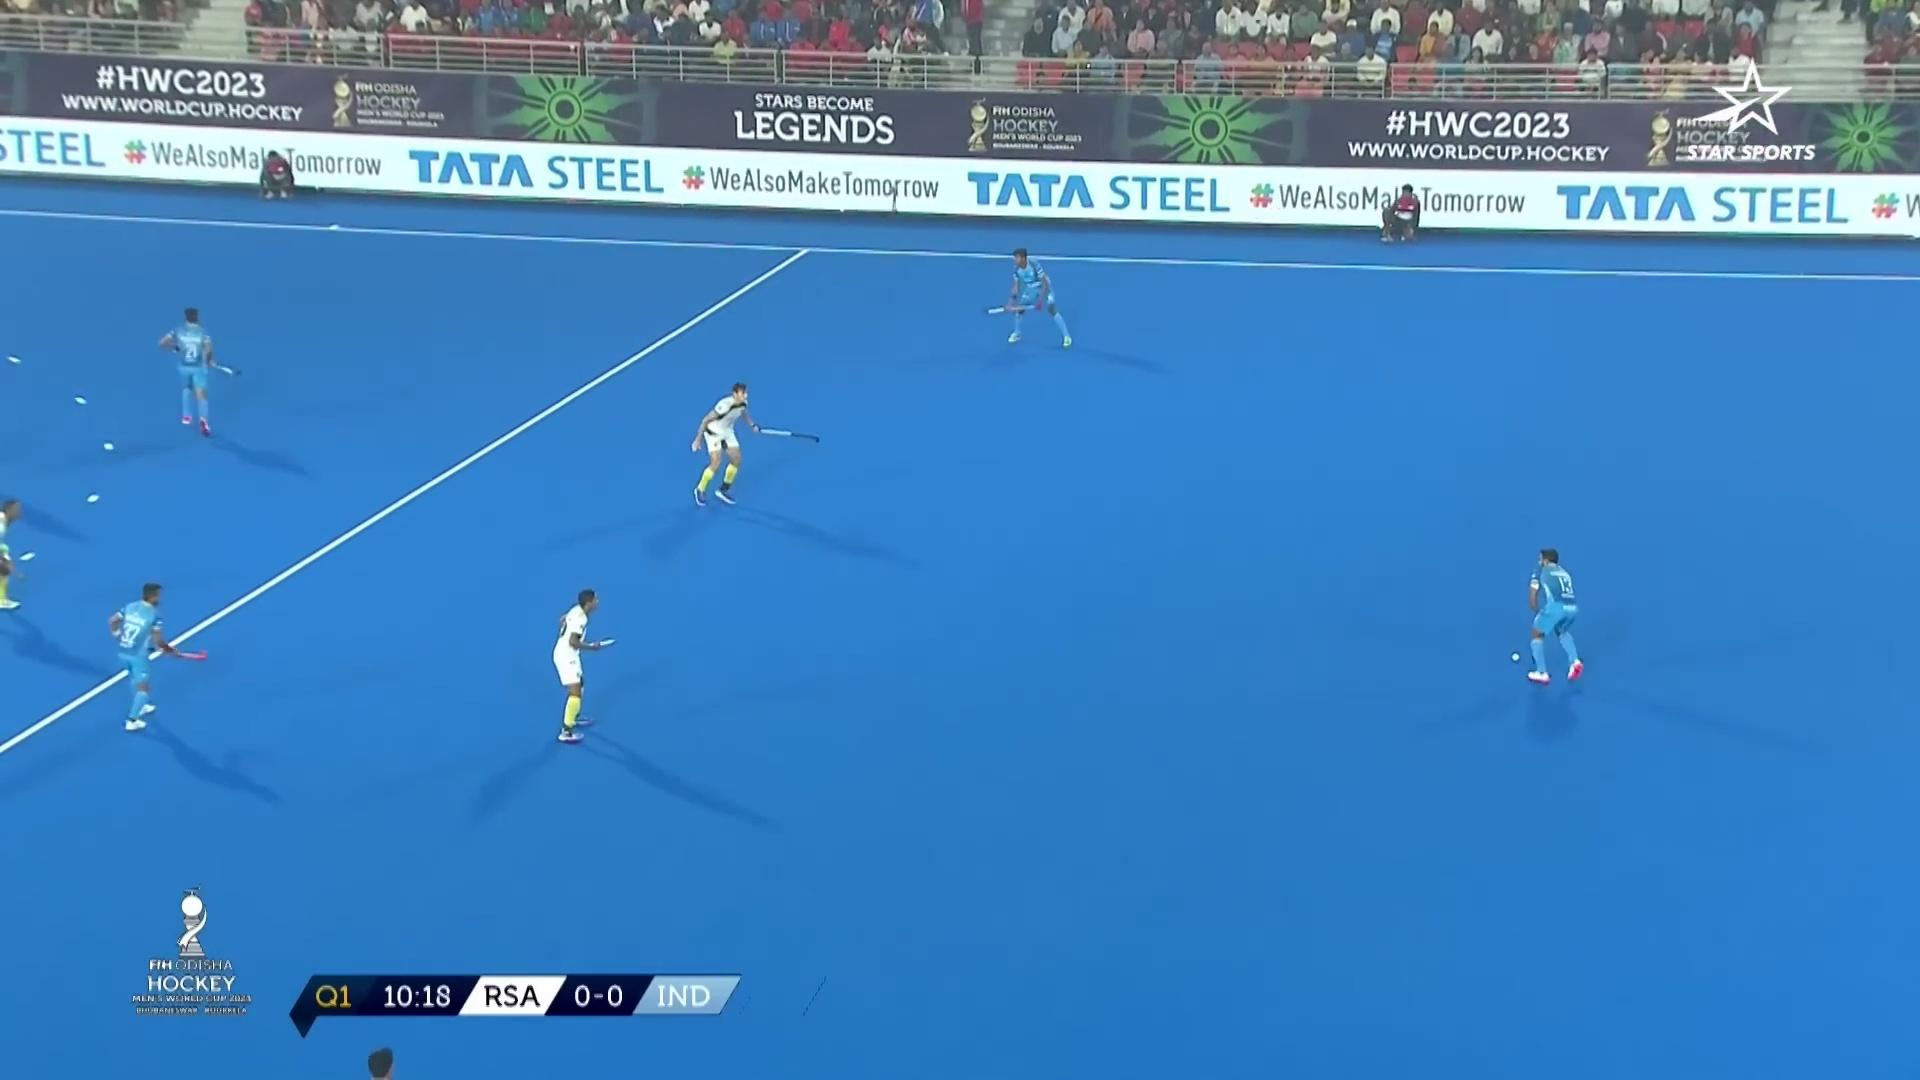ball: (1495, 636, 1536, 674)
